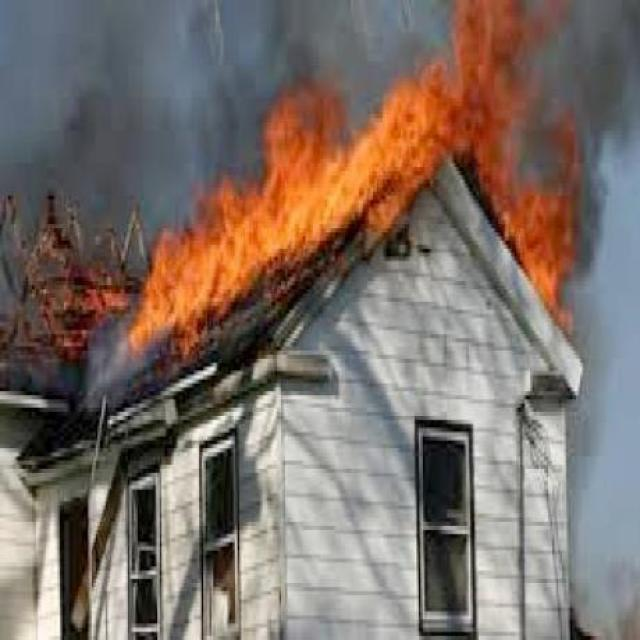Fire: (452, 0, 586, 339), (266, 77, 451, 263), (126, 181, 260, 350)
Smoke: (2, 0, 270, 184), (532, 3, 640, 180), (267, 0, 457, 79)
